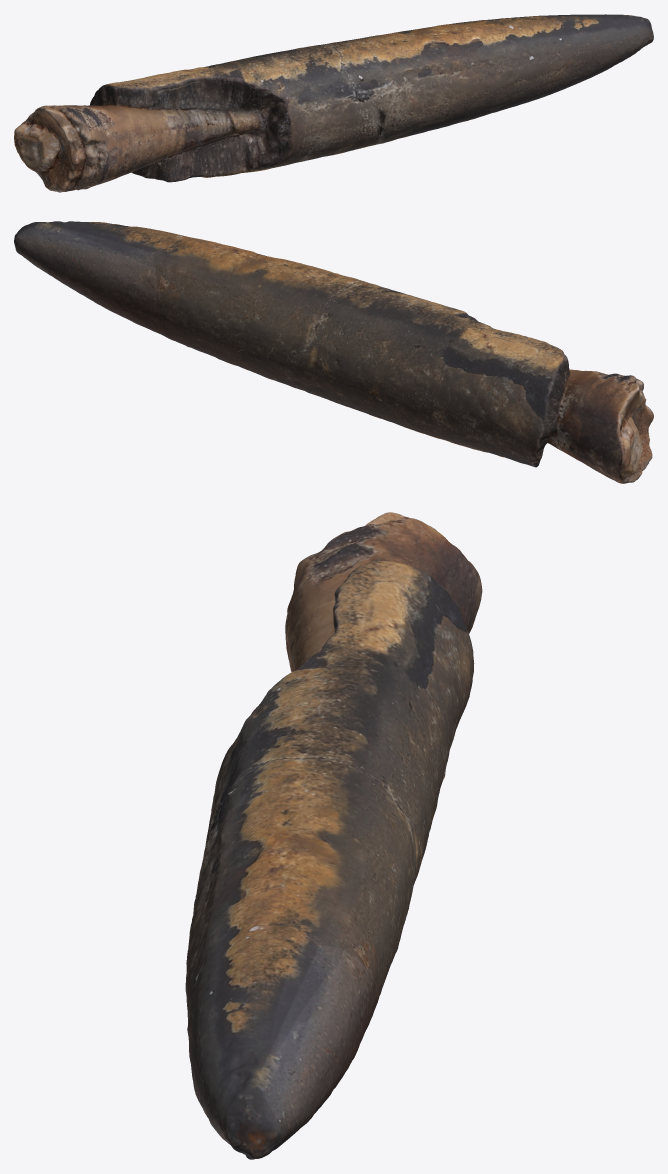
File: belemnites.glb
The picture shows the model from 3 angles, top to bottom: view 1: azimuth 30°, elevation 25°; view 2: azimuth 150°, elevation 25°; view 3: azimuth 270°, elevation 25°; orthographic projection. The views are drawn at different scales.
Visible parts, largest first — view 1: Model; view 2: Model; view 3: Model.
Part boxes in pixels (x1=…): Model: x1=14, y1=14, x2=653, y2=192; Model: x1=14, y1=221, x2=653, y2=483; Model: x1=185, y1=512, x2=482, y2=1159.
Bounding box in the file's own units: 0.089 × 0.0149 × 0.0196.
Materials: 3 (3 with a texture image).
